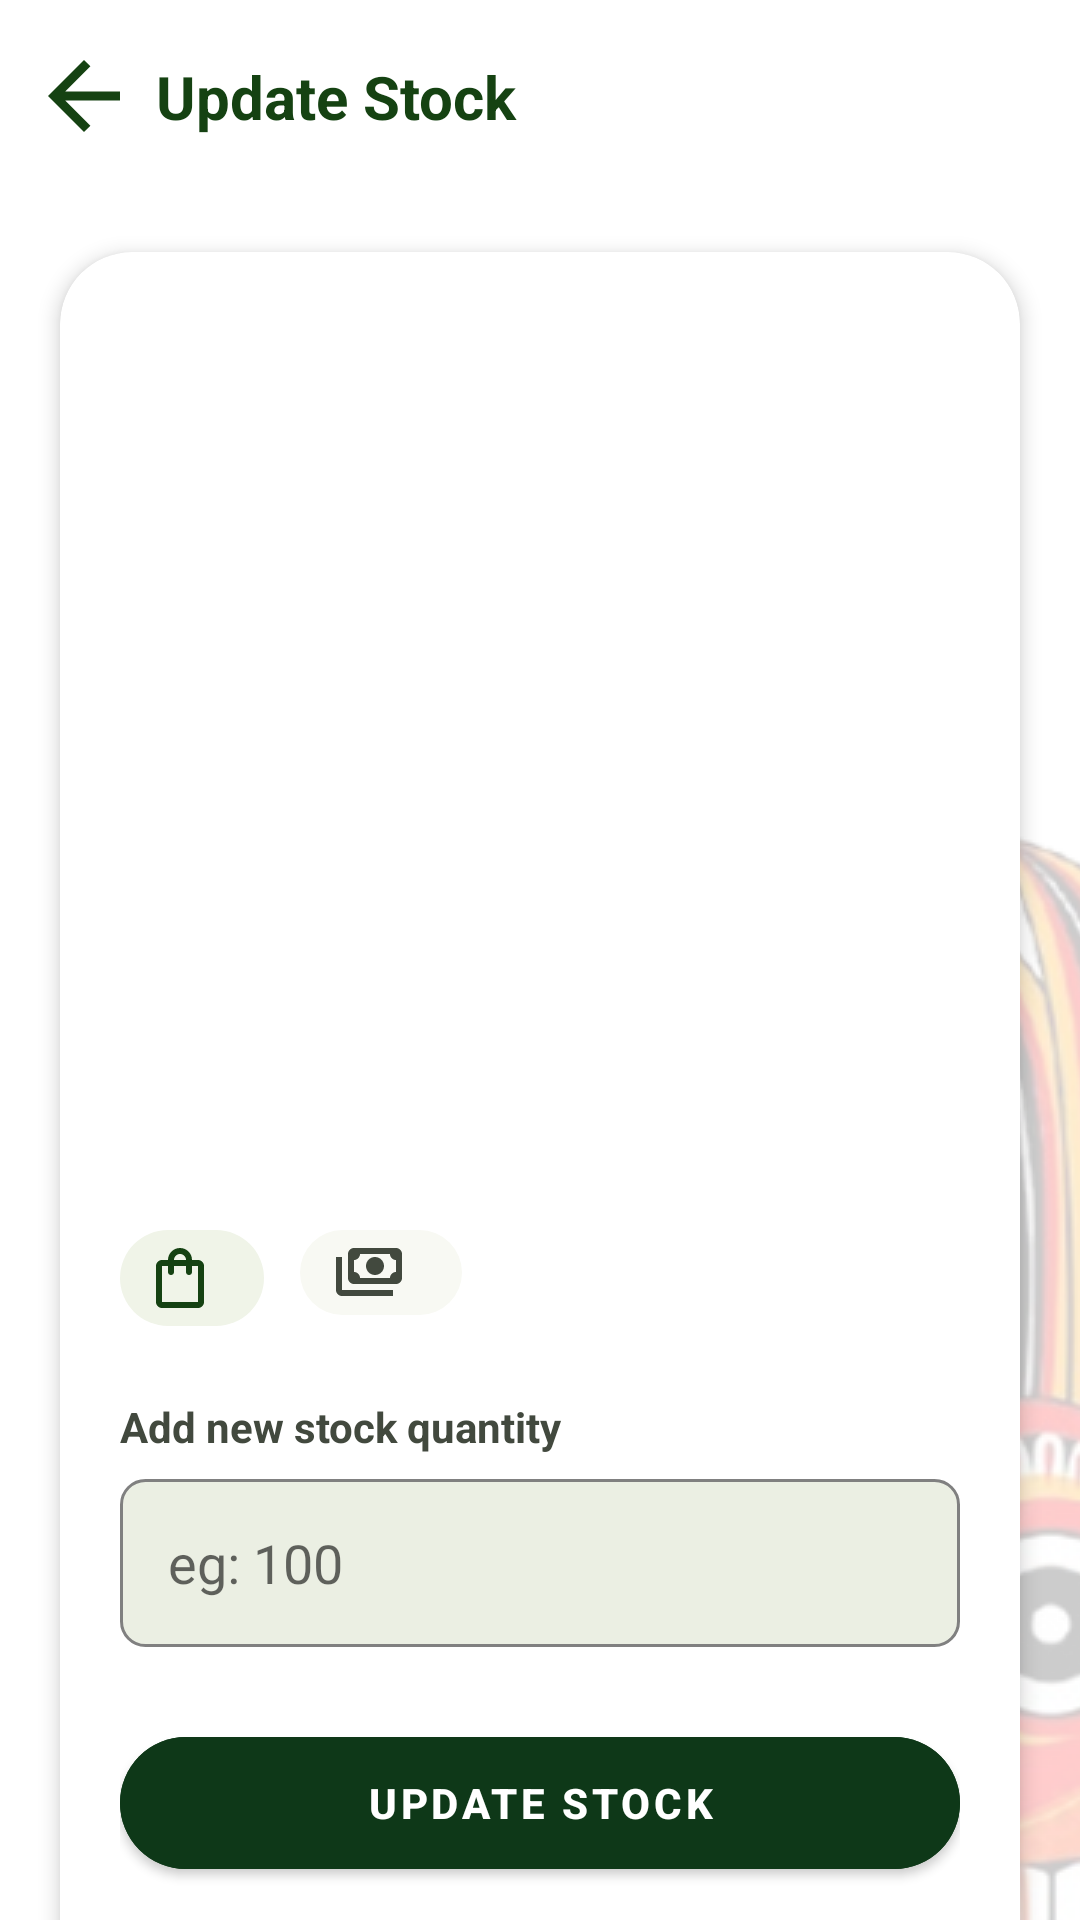

Screen size 1080w x 1920h. Icon name, then its center in pixels as point (x, y):
Back: point (84, 96)
